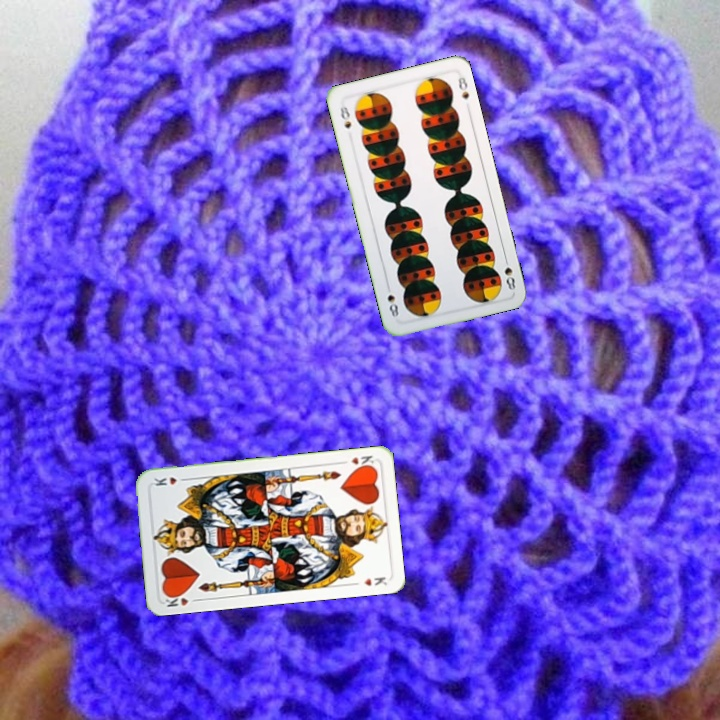HK: (337, 451, 377, 471), (160, 589, 191, 610)
S8: (500, 252, 518, 293), (336, 103, 354, 131)
